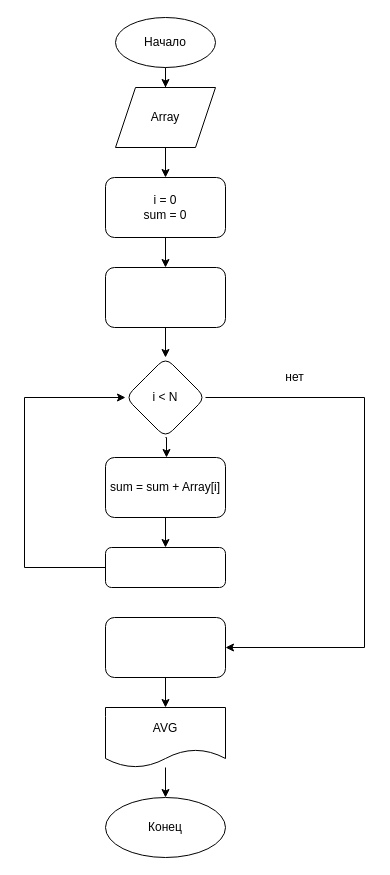
Some shapes in this 390 by 875 pixel diagram are drawn without their labels. The shapes that lost their labels are listed below. From the top down, each one's box as (x1, y1, x2, y2) in pixels, then its label:
(104, 266, 226, 328): N = array.length
(104, 546, 226, 588): i = i + 1
(104, 616, 226, 678): AVG = Sum / N
